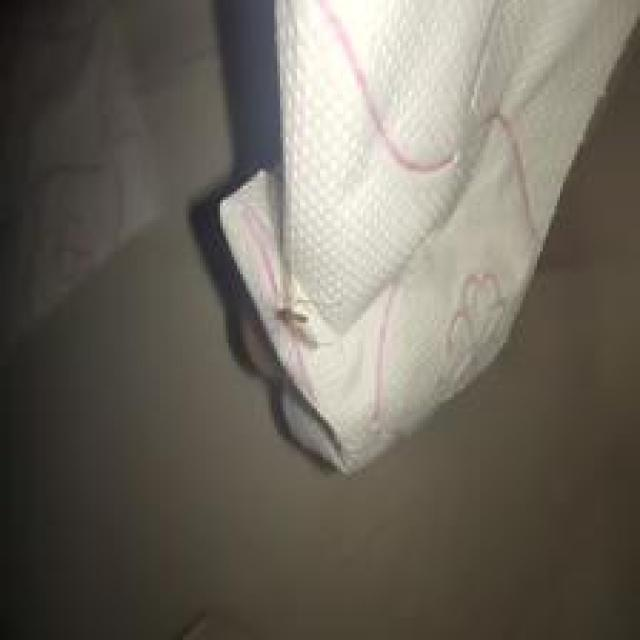Culex: (185, 0, 640, 477)
